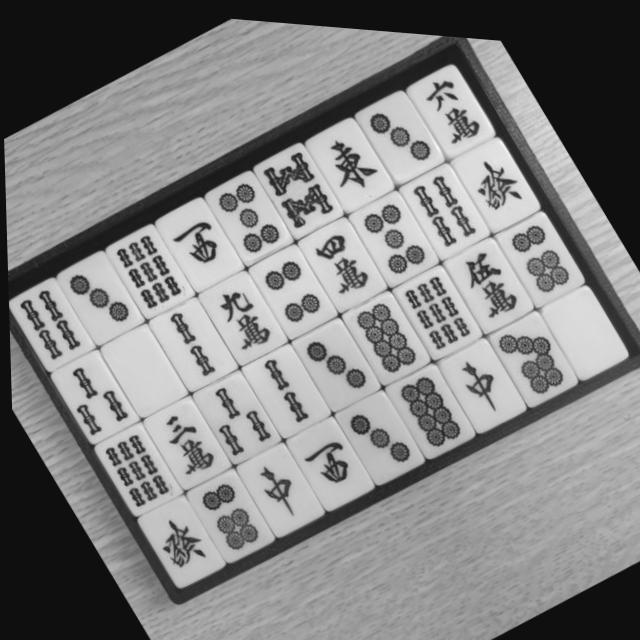hdg: (456, 133, 535, 223), (138, 497, 215, 583)
hdr: (442, 336, 520, 425), (238, 440, 315, 530)
hdw: (545, 278, 624, 368), (103, 325, 180, 412)
hwe: (309, 113, 390, 202)
hww: (288, 413, 369, 504), (158, 197, 237, 285)
sb2: (243, 338, 326, 433), (151, 296, 230, 387)
sb3: (193, 367, 276, 461), (51, 351, 131, 441)
sb4: (10, 279, 90, 370), (403, 159, 482, 249)
sb8: (256, 137, 340, 233)
sb9: (395, 259, 477, 352), (108, 224, 189, 316), (95, 422, 175, 513)
sc3: (145, 397, 220, 484)
sc4: (302, 215, 379, 303)
sc5: (445, 230, 528, 323)
sc6: (413, 58, 491, 147)
sc9: (201, 266, 281, 358)
sd3: (360, 84, 441, 176), (339, 387, 420, 479), (294, 314, 373, 403), (59, 254, 138, 342)
sd4: (251, 242, 330, 332)
sd5: (208, 168, 288, 259), (352, 186, 432, 277)
sd6: (499, 204, 581, 296), (189, 468, 265, 557)
sd7: (489, 302, 574, 397)
sd8: (389, 359, 468, 450), (347, 288, 422, 376)
